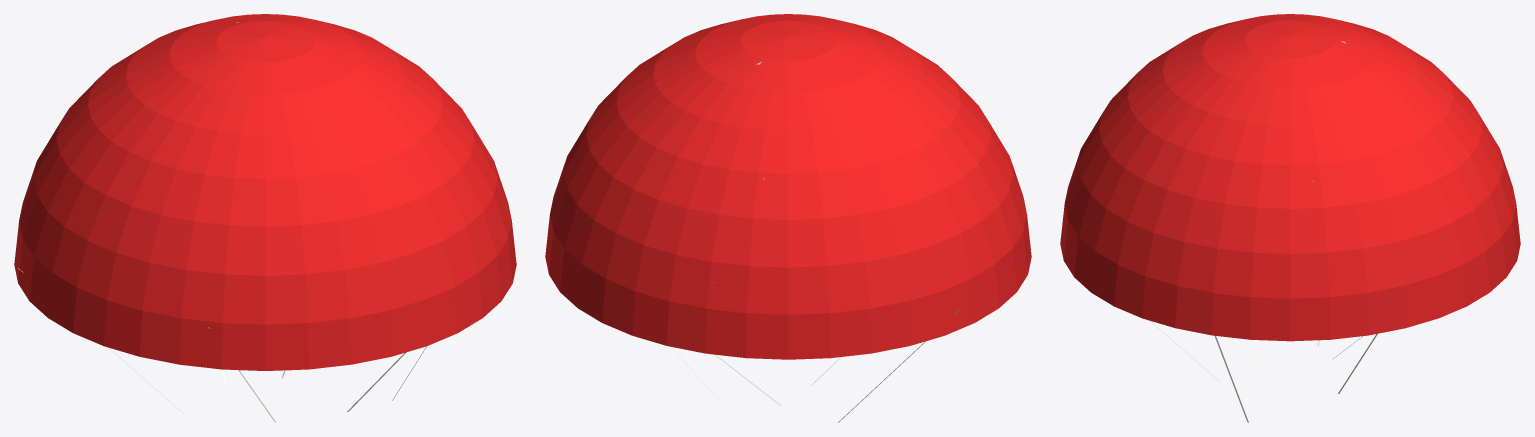
Rendered from parachute.obj.
3 views of the same model, side by side, from view 1: azimuth 30°, elevation 25°; view 2: azimuth 150°, elevation 25°; view 3: azimuth 270°, elevation 25° (orthographic). The views are drawn at different scales.
Visible parts, largest first — view 1: Sphere; view 2: Sphere; view 3: Sphere.
Part boxes in pixels (x1,y1,x2,y2): Sphere: [14, 14, 516, 370]; Sphere: [545, 14, 1031, 359]; Sphere: [1060, 14, 1520, 341].
Bounding box in the file's own units: 2 × 1.63 × 2.
